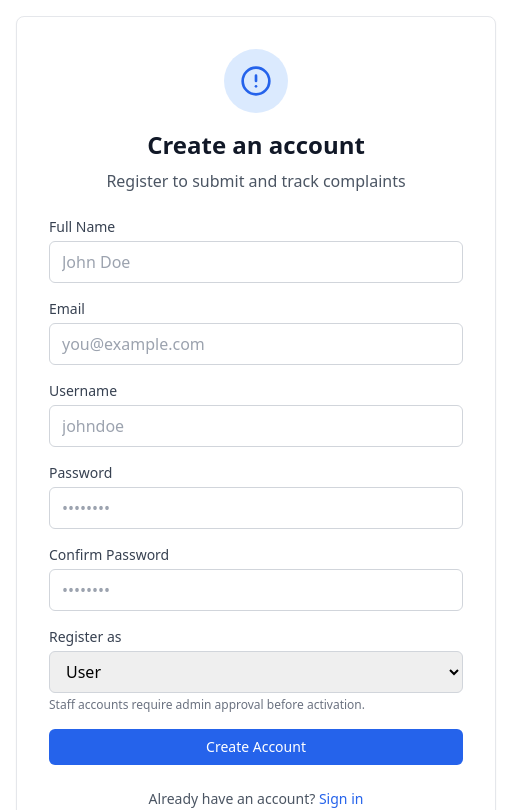
it: Registration Tests › should display an error if passwords do not match
The image size is (513, 810).
In the password field labelled "Password": (256, 508) [49,487,463,529], type "password123"
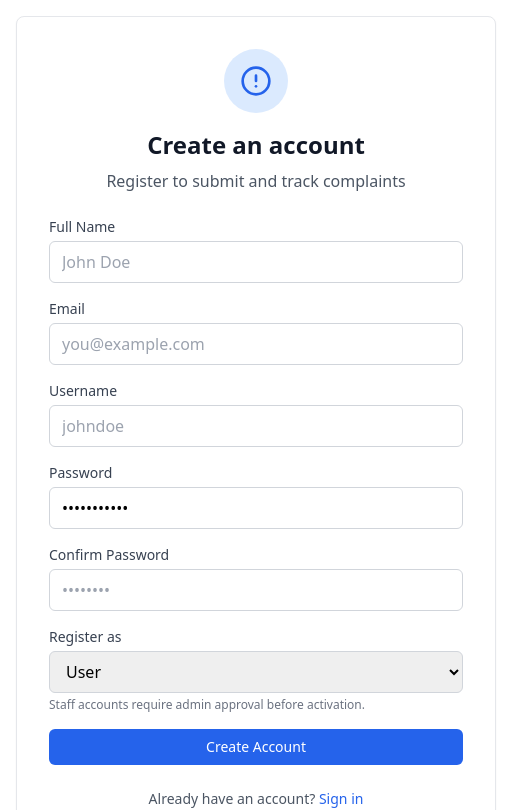
In the password field labelled "Confirm Password": (256, 590) [49,569,463,611], type "differentPassword"
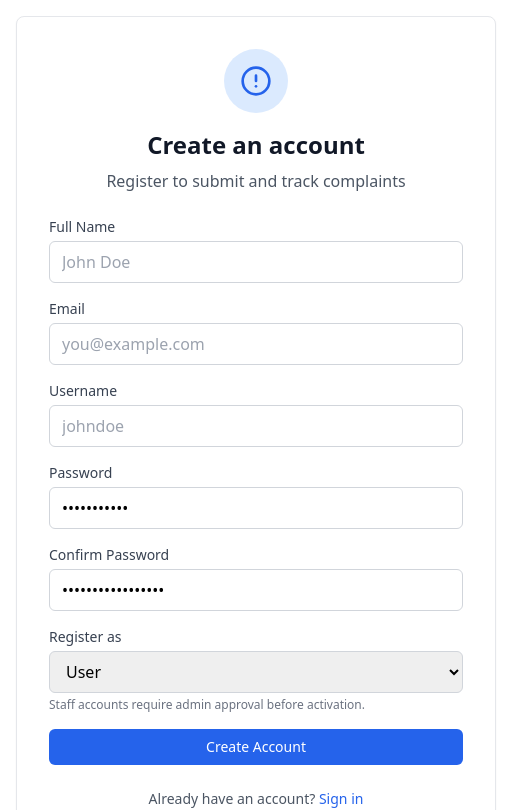
Click the button "Create Account": (256, 747) [49,729,463,765]
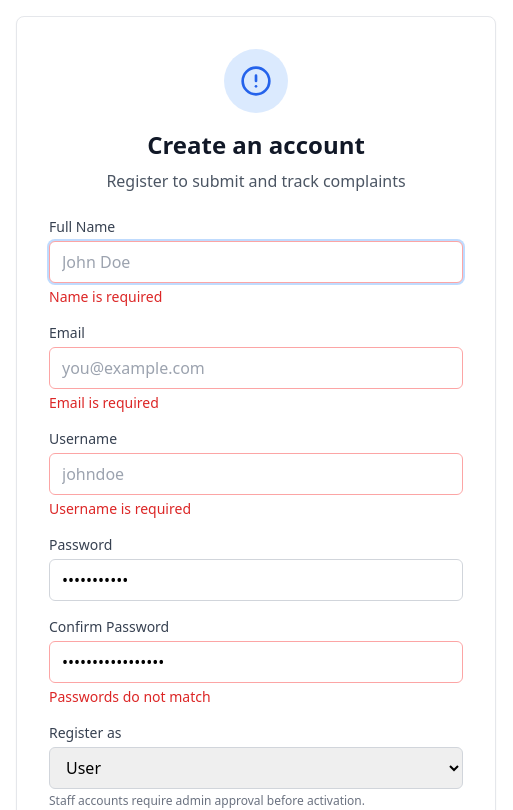
Result: the text "Passwords do not match" is shown at [49,687,211,706]
